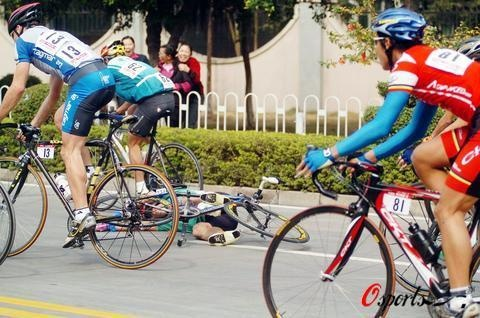falling: (85, 173, 252, 253)
